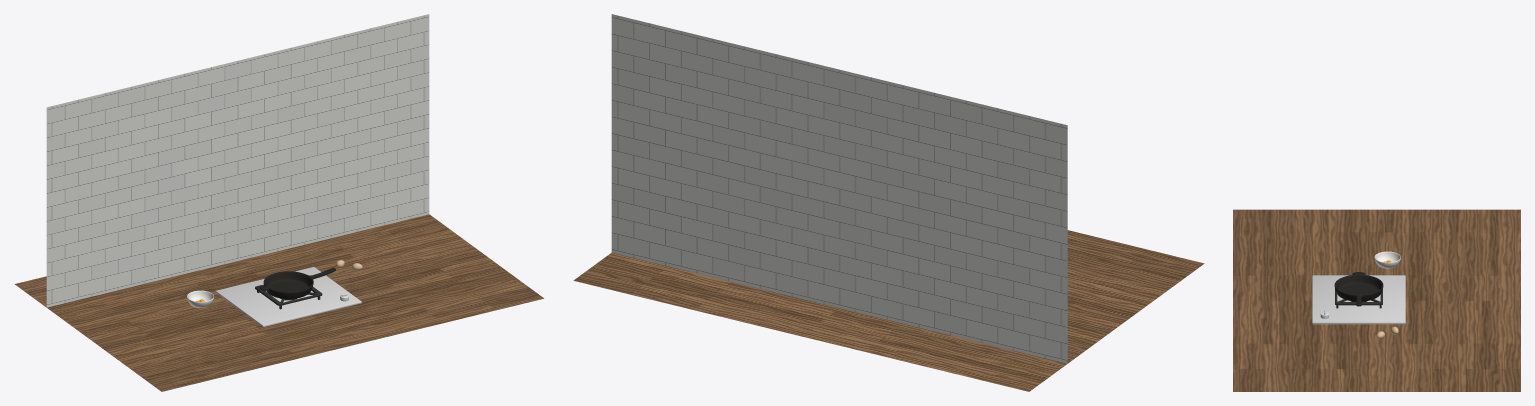
File: kitchen.glb
3 views of the same model, side by side, from view 1: azimuth 30°, elevation 25°; view 2: azimuth 150°, elevation 25°; view 3: azimuth 270°, elevation 25° (orthographic). The views are drawn at different scales.
Visible parts, largest first — view 1: Backsplash, Counter, Cooktop, Skillet; view 2: Backsplash, Counter; view 3: Counter, Cooktop, Skillet, Bowl.
Part boxes in pixels (x1,y1,x2,y2): Backsplash: [46, 14, 429, 307]; Counter: [14, 214, 543, 391]; Cooktop: [215, 267, 361, 327]; Skillet: [263, 271, 313, 298]; Backsplash: [611, 14, 1067, 363]; Counter: [573, 230, 1204, 391]; Counter: [1233, 209, 1520, 391]; Cooktop: [1312, 275, 1405, 324]; Skillet: [1334, 274, 1383, 301]; Bowl: [1374, 251, 1400, 268].
Size of the model in its own units: 2.4 by 1.2 by 1.6.
11 materials, 2 textured.
